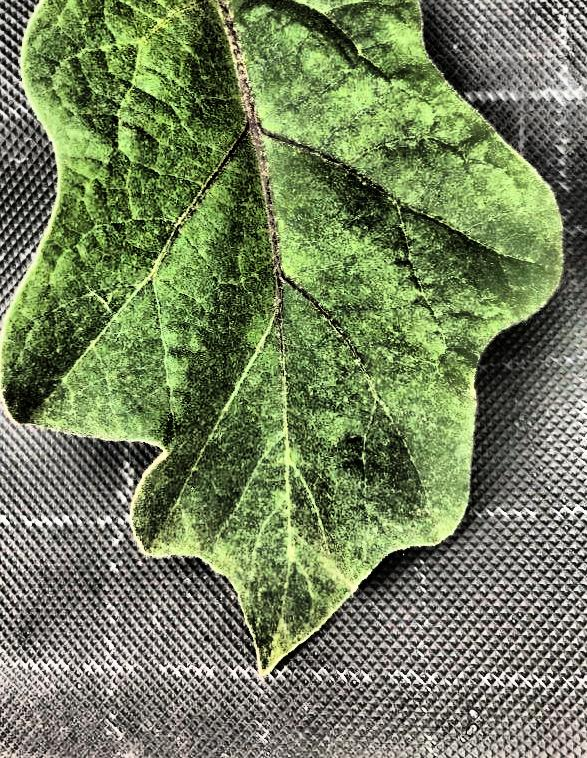HEALTHY: (44, 0, 587, 526)
